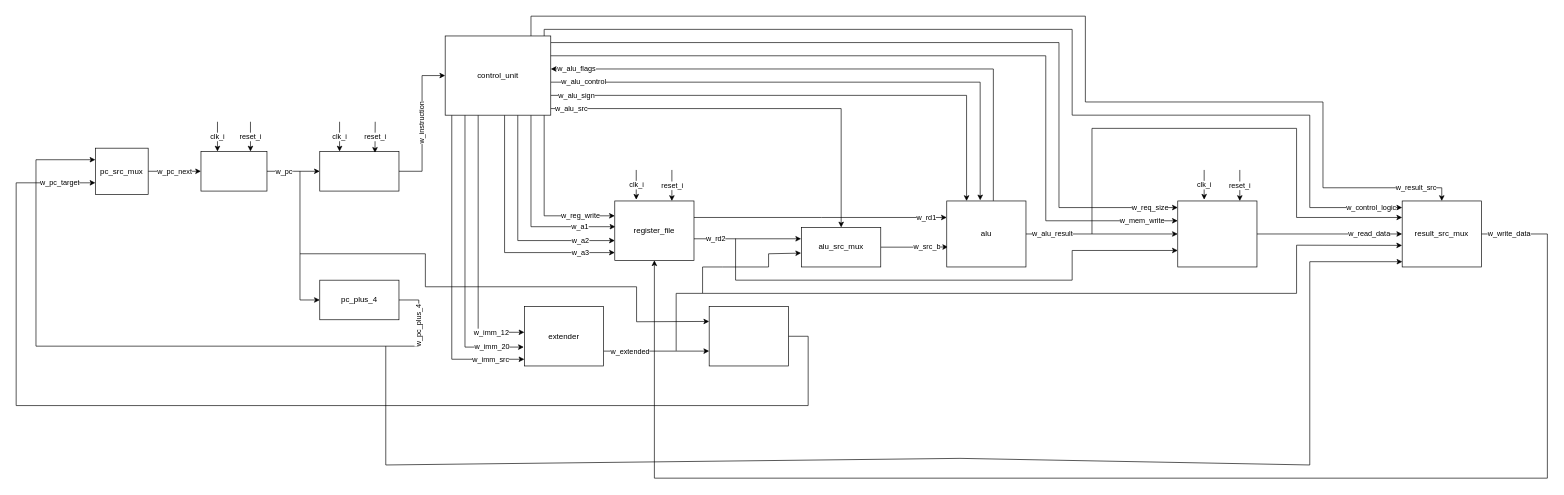
Some shapes in this 1564 by 495 pixel diagram are drawn without their labels. Here are the shapes that lost their labels. From the top down, the centre of each, then its label:
At (233,171): "program_counter".
At (359,171): "instruction_memory".
At (1217,233): "data_memory".
At (748,336): "pc_target".
